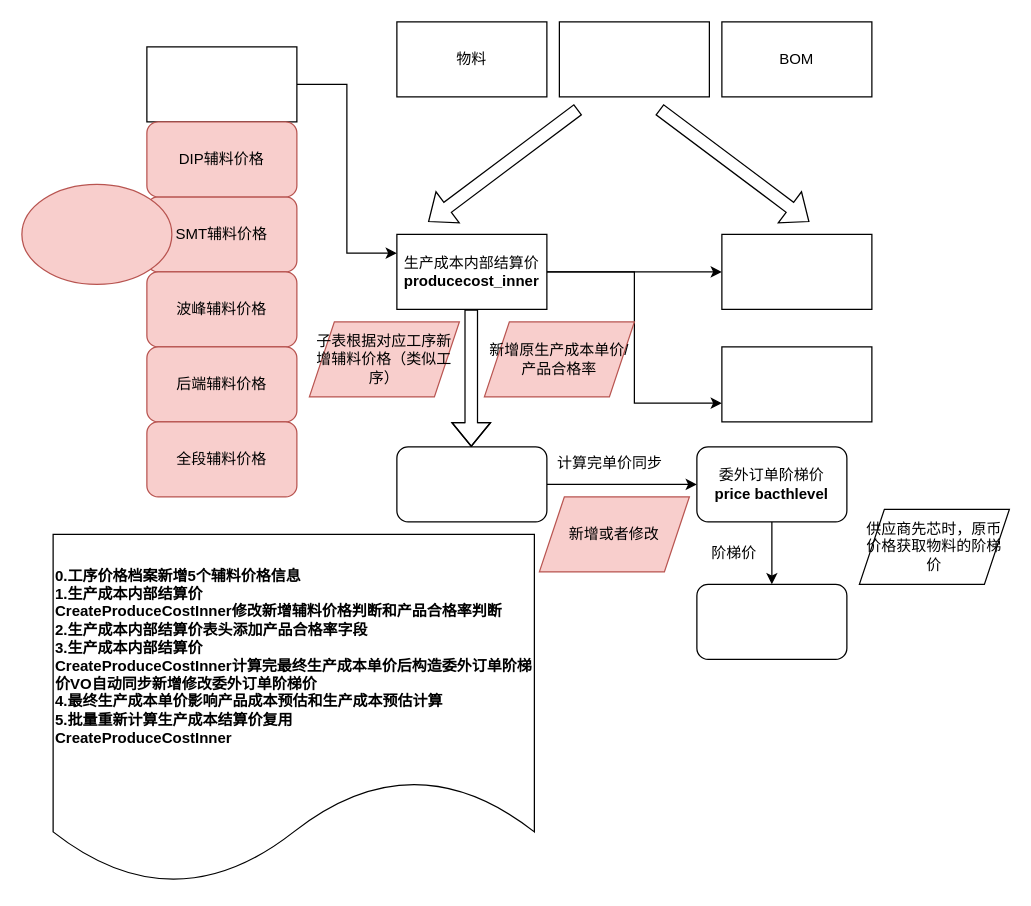
Some shapes in this 1031 by 906 pixel diagram are drawn without their labels. The shapes that lost their labels are listed below. From the top down, each one's centre as x and y in pixels, then its label:
At (633,59): "工艺路线".
At (221,84): "工序价格档案 lsdmfg_procedureprice".
At (96,233): "SMT工时 取 SMT3 线投板站".
At (796,271): "产品成本预估 productcost_esti".
At (796,384): "生产成本预估 producecost_esti".
At (471,484): "最终生产成本单价".
At (771,621): "委外订单".
